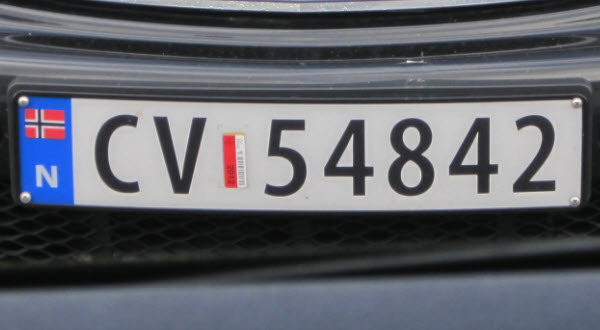license_plate: (14, 90, 587, 213)
